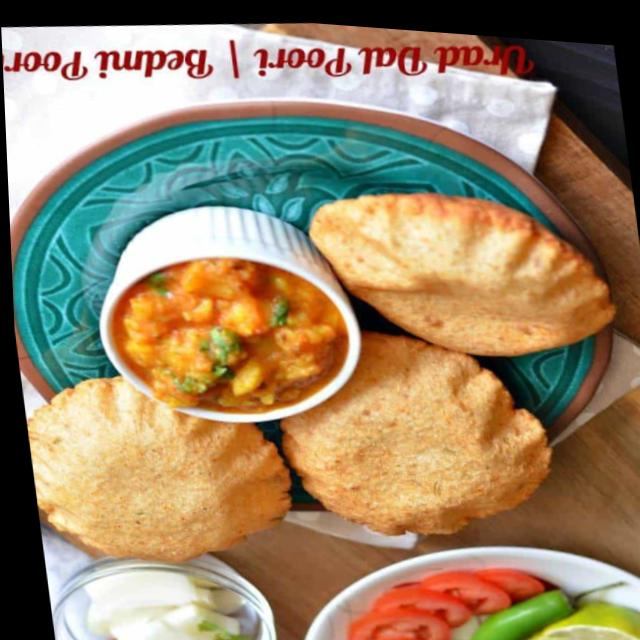CURRY: (111, 256, 352, 415)
POORI: (27, 326, 549, 561), (304, 191, 623, 354)
